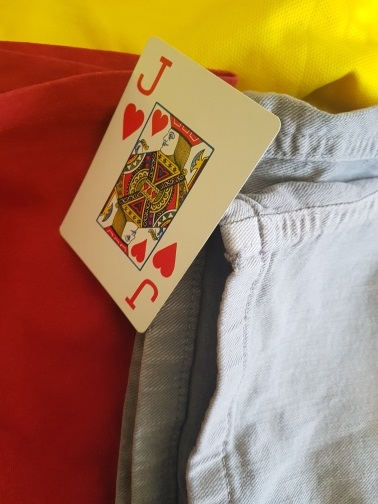jack: (59, 35, 282, 334)
